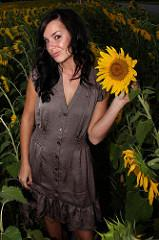sunflower: (96, 44, 137, 96)
